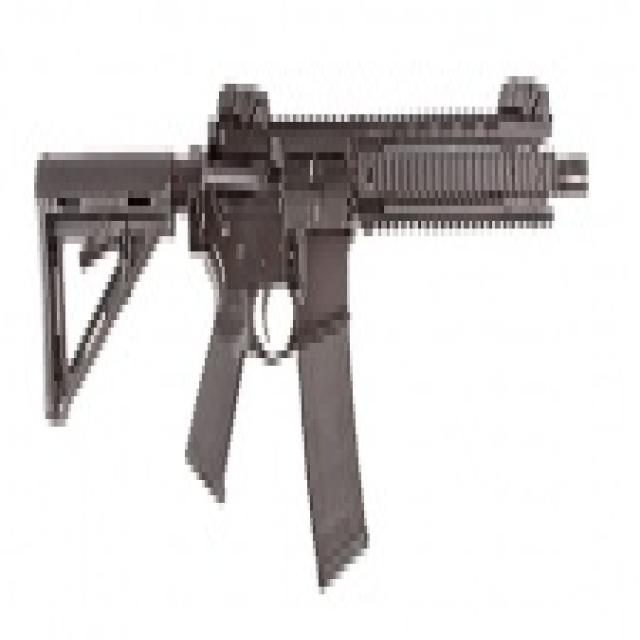rifle: (28, 61, 595, 610)
